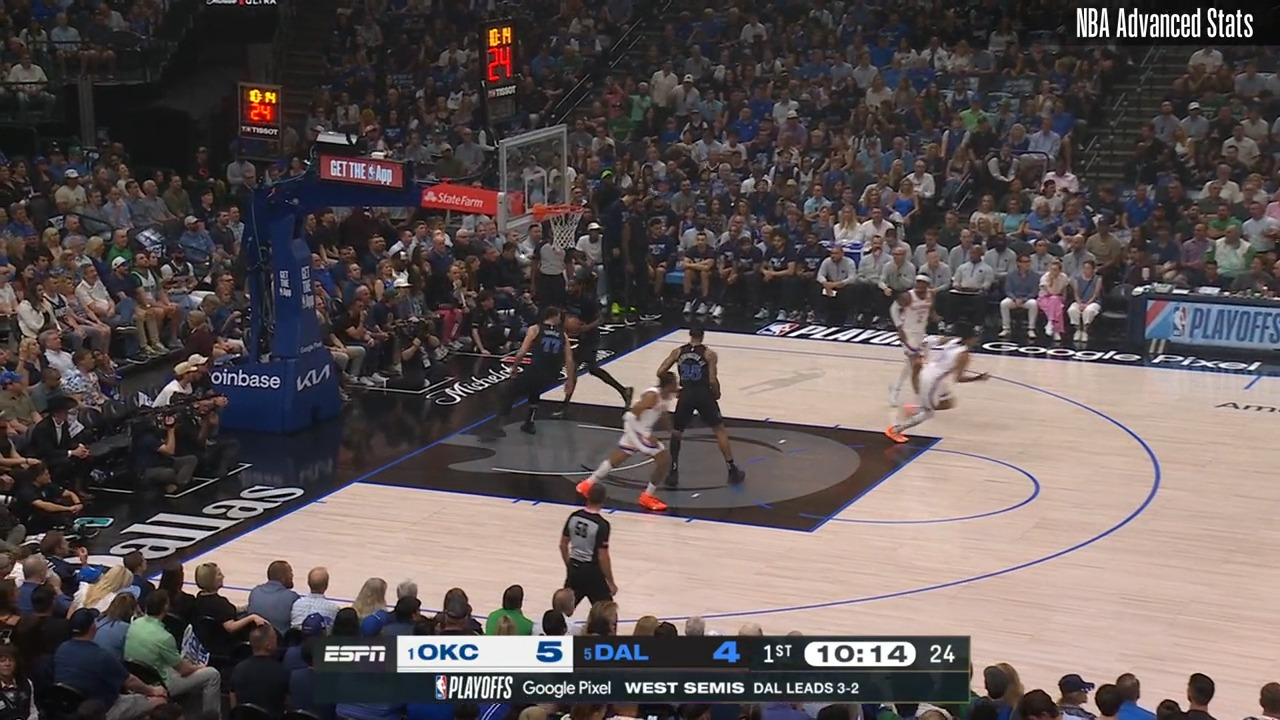basketball: (564, 316, 583, 339)
